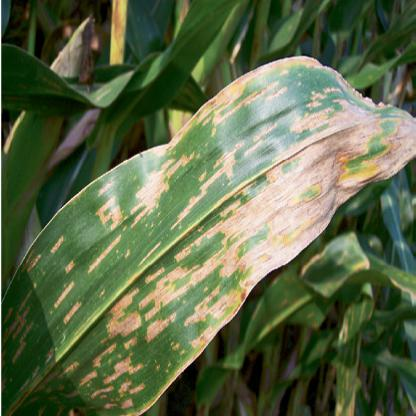corn leaf blight: (23, 55, 402, 408)
